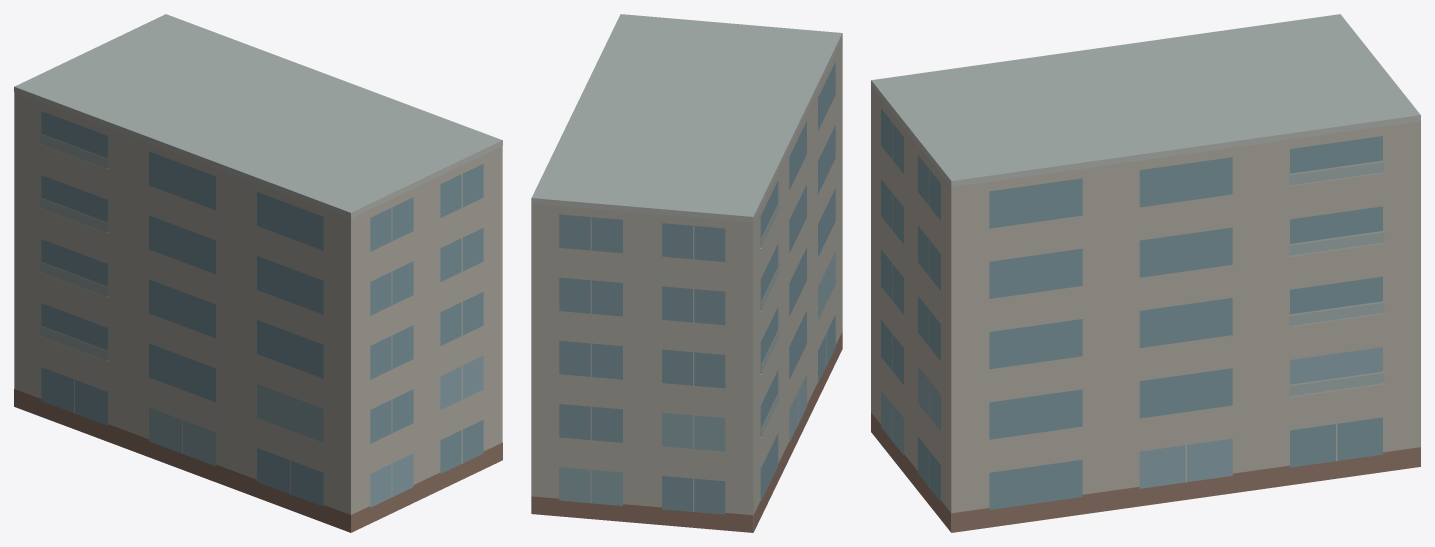
Rendered from survey-upis-32617767.glb.
3 renders of one model, left to right at view 1: azimuth 30°, elevation 25°; view 2: azimuth 150°, elevation 25°; view 3: azimuth 270°, elevation 25°, orthographic. The views are drawn at different scales.
Parts seen in each view (by area): view 1: survey-upis-32617767.tmp; view 2: survey-upis-32617767.tmp; view 3: survey-upis-32617767.tmp.
Part boxes in pixels (x1=…): survey-upis-32617767.tmp: x1=14, y1=14, x2=502, y2=532; survey-upis-32617767.tmp: x1=531, y1=14, x2=842, y2=532; survey-upis-32617767.tmp: x1=871, y1=14, x2=1420, y2=532.
Bounding box in the file's own units: 14.27 × 14 × 19.84.
